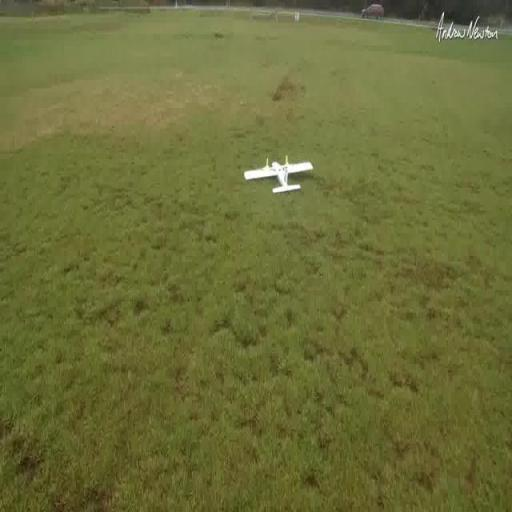uav: (240, 146, 324, 208)
